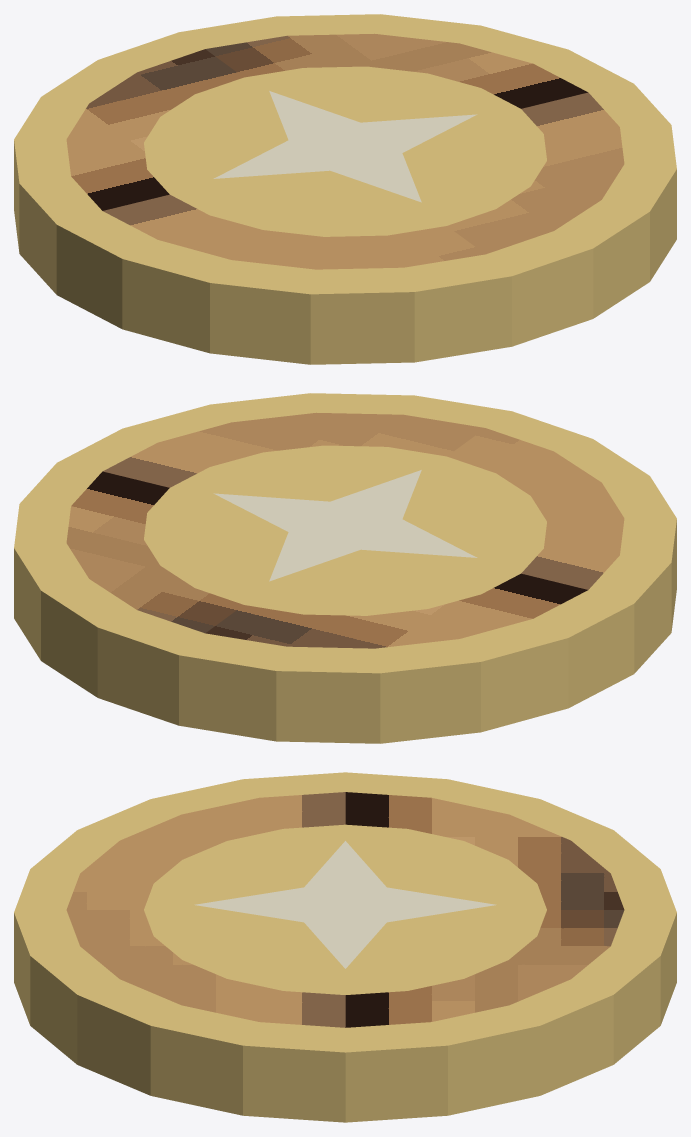
The model's file is moeda_chao.fbx.
3 views of the same model, one above another, from view 1: azimuth 30°, elevation 25°; view 2: azimuth 150°, elevation 25°; view 3: azimuth 270°, elevation 25° (orthographic).
Visible parts, largest first — view 1: deserto_moeda_chao; view 2: deserto_moeda_chao; view 3: deserto_moeda_chao.
Part boxes in pixels (left/top/right/bottom): deserto_moeda_chao: left=14, top=14, right=676, bottom=364; deserto_moeda_chao: left=14, top=393, right=676, bottom=743; deserto_moeda_chao: left=14, top=772, right=676, bottom=1122.
Bounding box in the file's own units: 24 × 3.1 × 24.
Materials: 3 (1 with a texture image).
